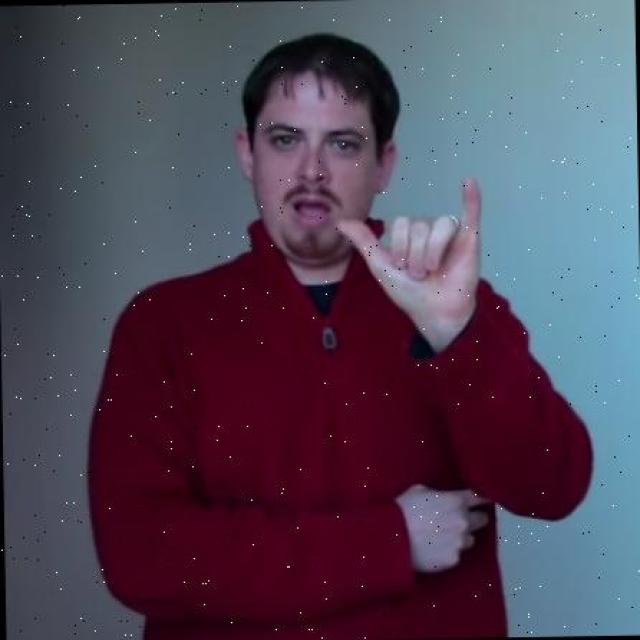Y: (329, 172, 485, 323)
